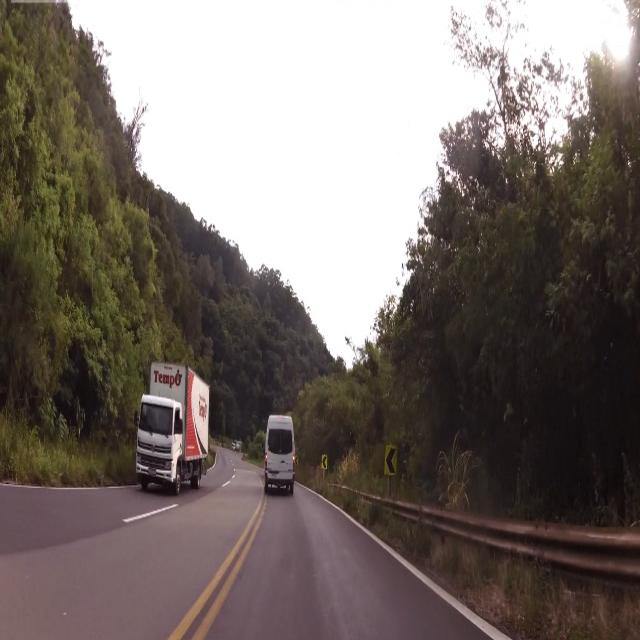Del: (384, 435, 396, 483)
